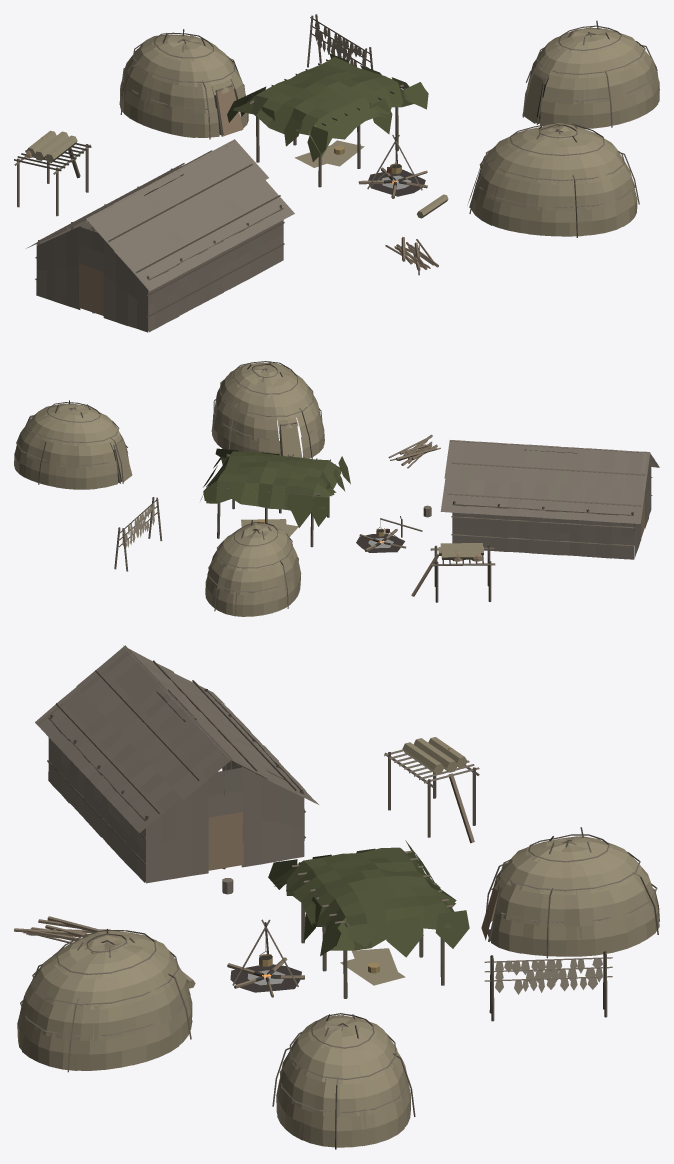
Rendered from potawatomi_camp_1812_upper__camp_1812.glb.
3 views of the same model, one above another, from view 1: azimuth 30°, elevation 25°; view 2: azimuth 150°, elevation 25°; view 3: azimuth 270°, elevation 25° (orthographic). The views are drawn at different scales.
Visible parts, largest first — view 1: potawatomi_camp_1812_upper__camp_1812; view 2: potawatomi_camp_1812_upper__camp_1812; view 3: potawatomi_camp_1812_upper__camp_1812.
Part boxes in pixels (x1,y1,x2,y2): potawatomi_camp_1812_upper__camp_1812: (14,14,659,332); potawatomi_camp_1812_upper__camp_1812: (14,361,659,616); potawatomi_camp_1812_upper__camp_1812: (14,645,659,1149).
Size of the model in its own units: 25.18 by 3.45 by 17.08.
